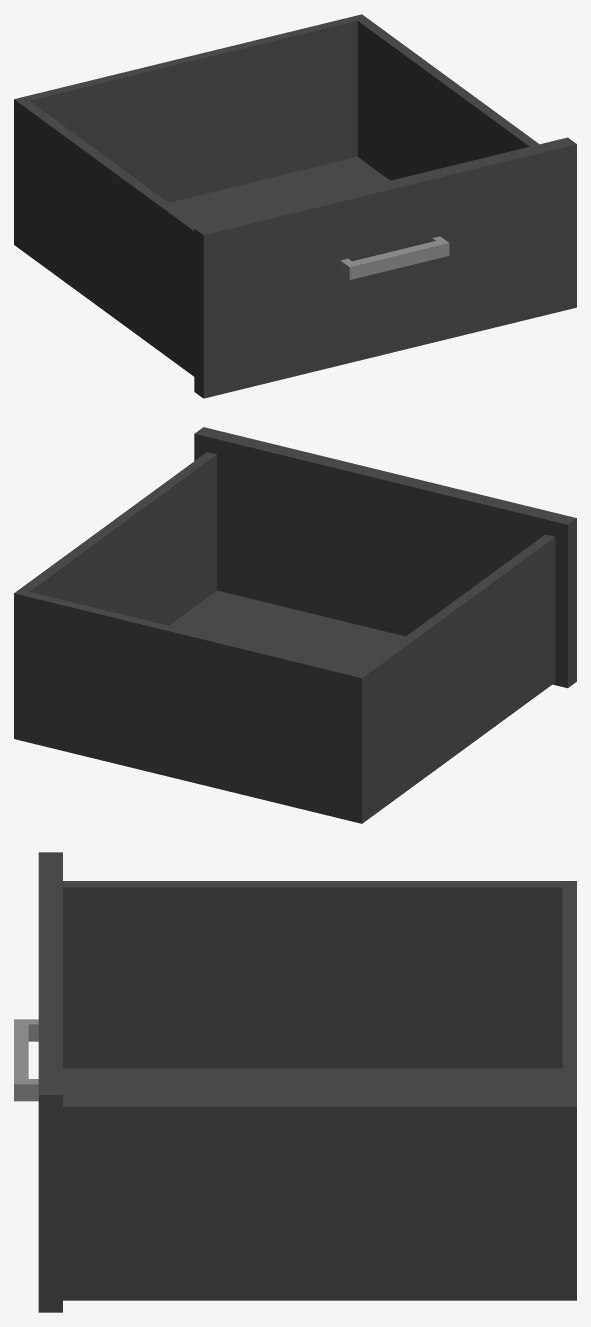
File: Door2_C3_05.fbx
The picture shows the model from 3 angles, top to bottom: view 1: azimuth 30°, elevation 25°; view 2: azimuth 150°, elevation 25°; view 3: azimuth 270°, elevation 25°; orthographic projection. The views are drawn at different scales.
Visible parts, largest first — view 1: Door2_C3_05; view 2: Door2_C3_05; view 3: Door2_C3_05.
Part boxes in pixels (x1=…): Door2_C3_05: x1=14, y1=14, x2=576, y2=398; Door2_C3_05: x1=14, y1=427, x2=576, y2=823; Door2_C3_05: x1=14, y1=852, x2=576, y2=1312.
Bounding box in the file's own units: 59 × 24.68 × 57.89.
